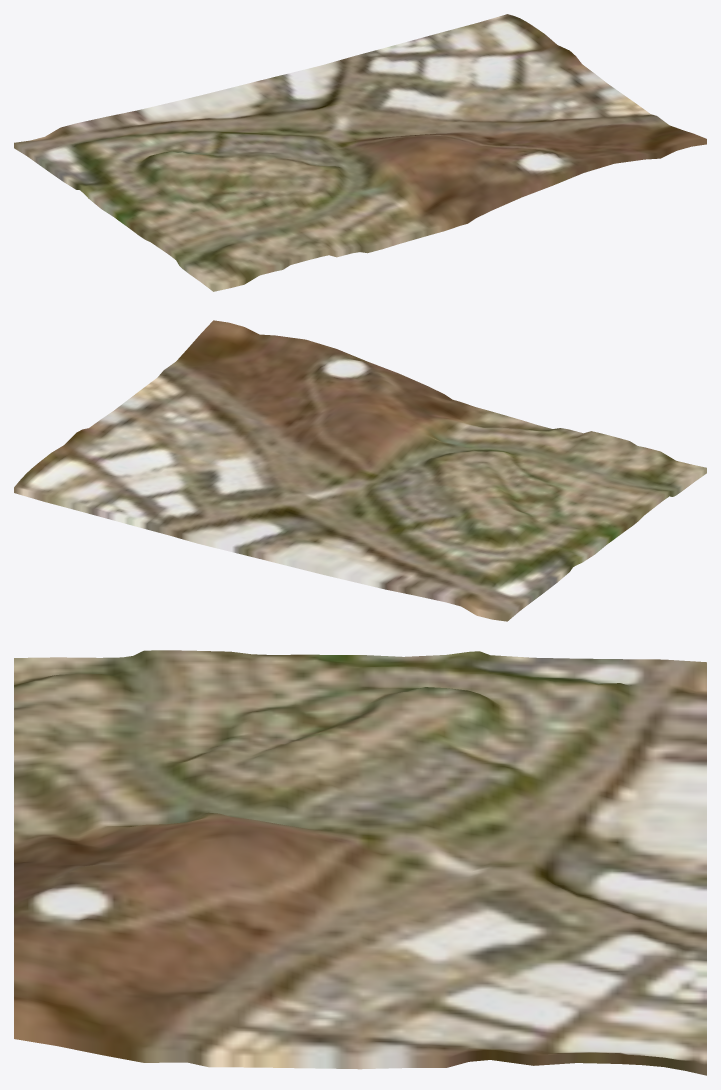
Rendered from terrain_r4_c5_lod2.glb.
3 views of the same model, one above another, from view 1: azimuth 30°, elevation 25°; view 2: azimuth 150°, elevation 25°; view 3: azimuth 270°, elevation 25° (orthographic). The views are drawn at different scales.
Parts seen in each view (by area): view 1: terrain_r4_c5_lod2; view 2: terrain_r4_c5_lod2; view 3: terrain_r4_c5_lod2.
Boxes of the visible parts, x1,y1,x2,y2 form: terrain_r4_c5_lod2: (14,14,706,291); terrain_r4_c5_lod2: (14,320,706,621); terrain_r4_c5_lod2: (14,650,706,1075).
Bounding box in the file's own units: 1125 × 89.61 × 787.
1 material, 1 textured.
